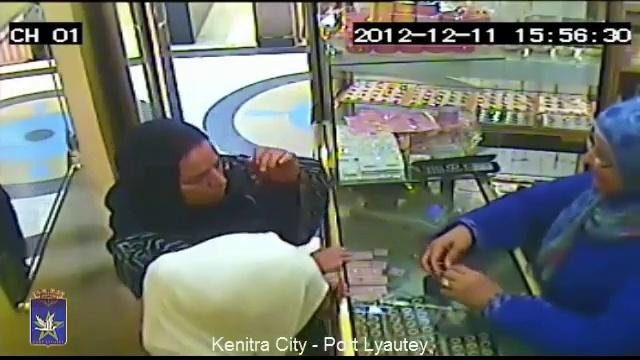Regular: (392, 90, 640, 353), (136, 205, 354, 360), (118, 95, 236, 217)
